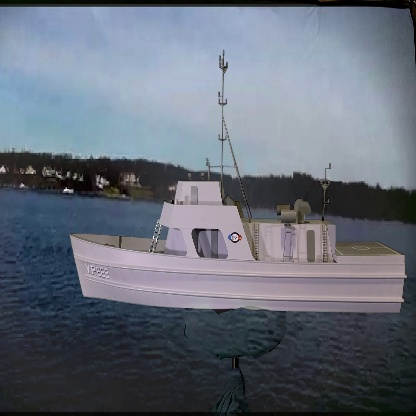YP689: (71, 50, 407, 318)
